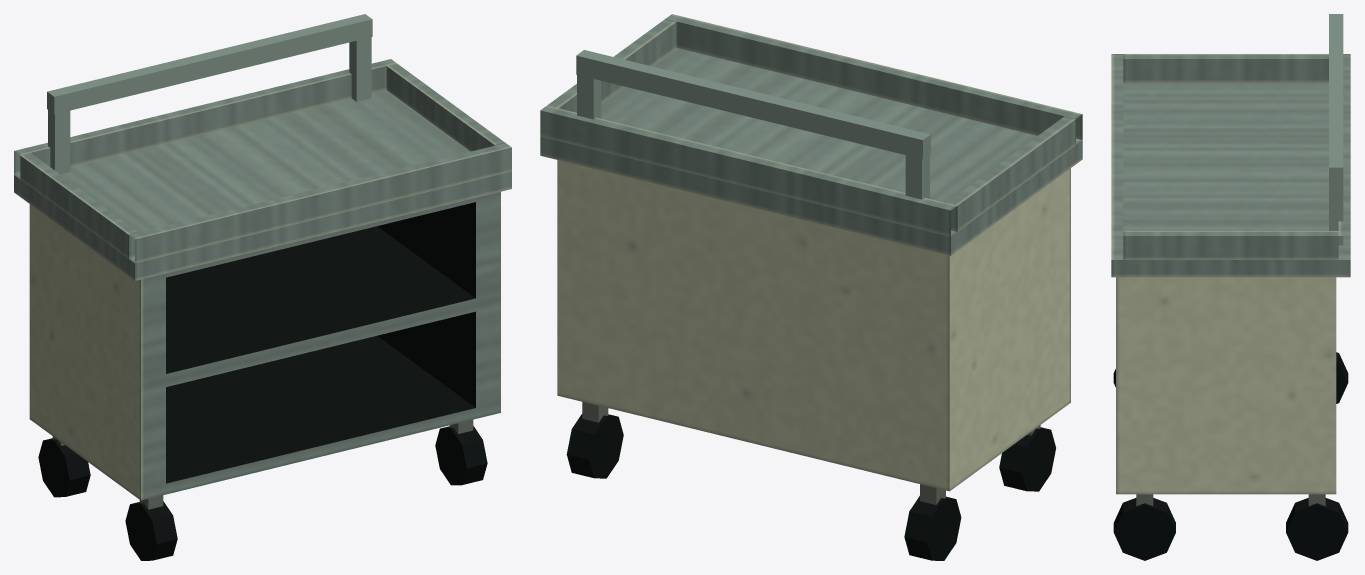
The model's file is SM_LabCold_Cart_Utility_90x50x90.fbx.
3 views of the same model, side by side, from view 1: azimuth 30°, elevation 25°; view 2: azimuth 150°, elevation 25°; view 3: azimuth 270°, elevation 25° (orthographic). The views are drawn at different scales.
Parts seen in each view (by area): view 1: SM_LabCold_Cart_Utility_90x50x90.001; view 2: SM_LabCold_Cart_Utility_90x50x90.001; view 3: SM_LabCold_Cart_Utility_90x50x90.001.
Part boxes in pixels (box(x1,y1,x2,y2)): SM_LabCold_Cart_Utility_90x50x90.001: box(14, 14, 511, 560); SM_LabCold_Cart_Utility_90x50x90.001: box(540, 14, 1082, 560); SM_LabCold_Cart_Utility_90x50x90.001: box(1111, 14, 1350, 560).
Bounding box in the file's own units: 0.9 × 0.9 × 0.5.
